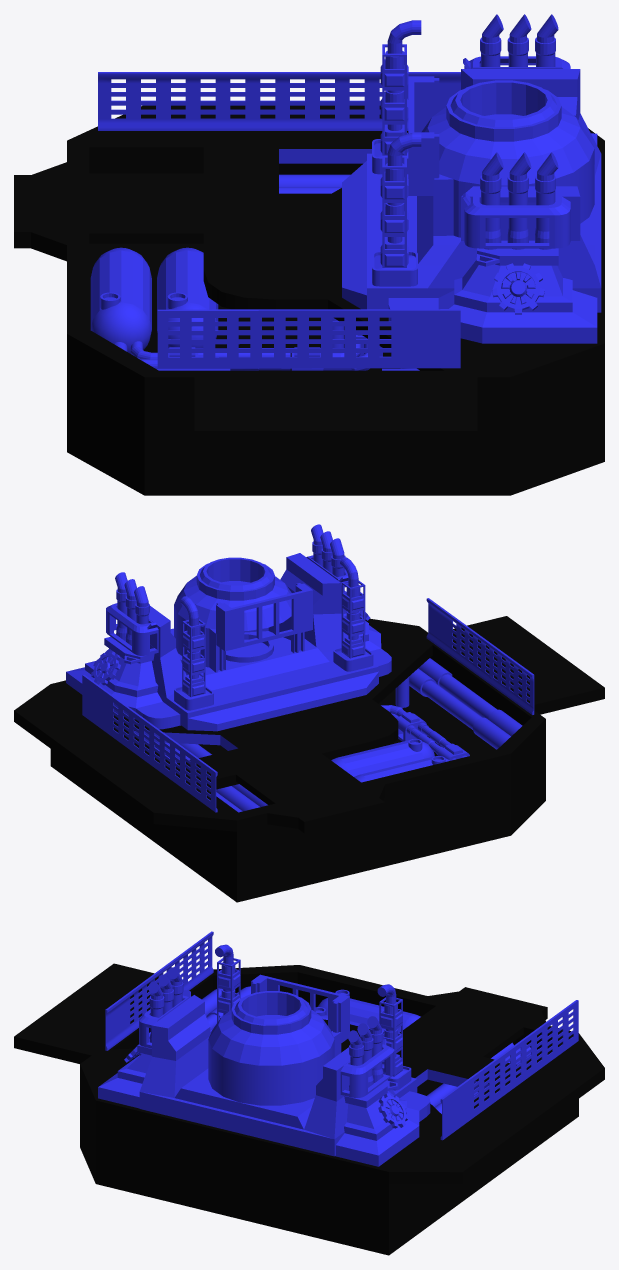
Rendered from FireRoomFIN (1).fbx.
3 views of the same model, one above another, from view 1: azimuth 30°, elevation 25°; view 2: azimuth 150°, elevation 25°; view 3: azimuth 270°, elevation 25° (orthographic). The views are drawn at different scales.
Parts seen in each view (by area): view 1: Box164, Cylinder267, Box165, Sphere004, Object033; view 2: Box164, Cylinder267, Box165, Sphere004, Object033; view 3: Box164, Cylinder267, Box165, Sphere004, Object033.
Boxes of the visible parts, x1,y1,x2,y2 form: Box164: (14, 105, 604, 495); Cylinder267: (342, 14, 601, 343); Box165: (98, 72, 460, 368); Sphere004: (90, 174, 419, 370); Object033: (408, 76, 439, 195); Box164: (14, 616, 604, 902); Cylinder267: (66, 524, 391, 731); Box165: (82, 598, 534, 812); Sphere004: (148, 658, 522, 812); Object033: (216, 583, 312, 651); Box164: (14, 963, 604, 1255); Cylinder267: (98, 944, 430, 1166); Box165: (105, 931, 578, 1140); Sphere004: (202, 986, 538, 1113); Object033: (251, 974, 349, 1042).
Size of the model in its own units: 1143 by 519 by 1368.
